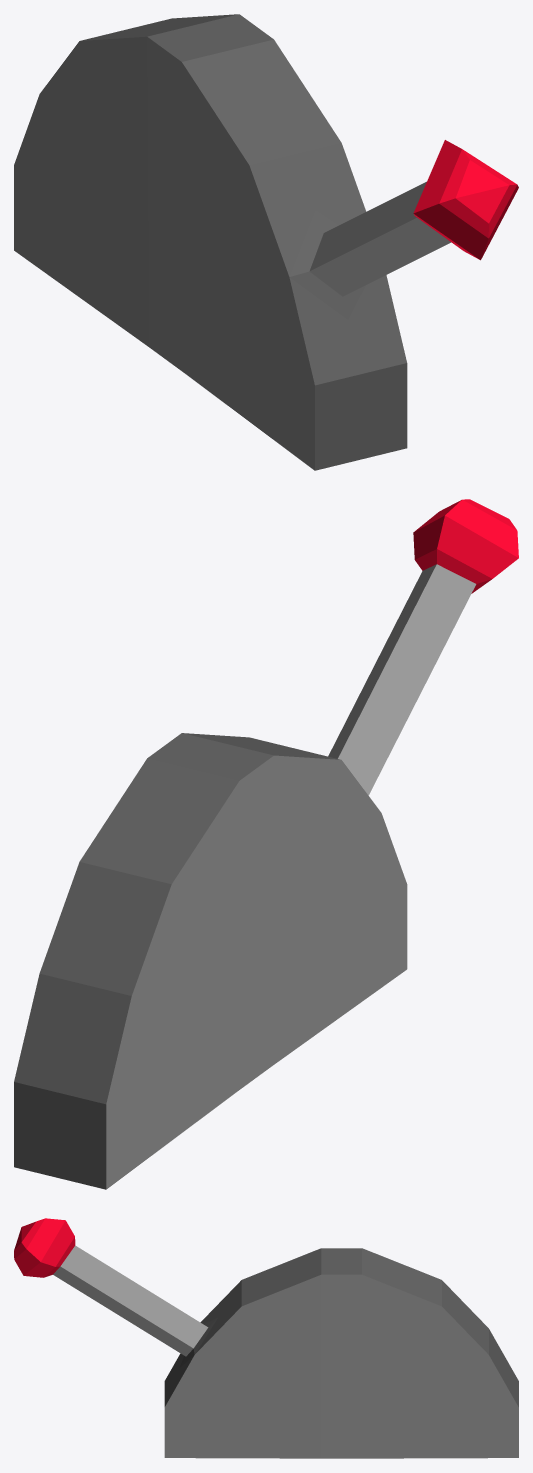
File: switchFBX.fbx
3 views of the same model, one above another, from view 1: azimuth 30°, elevation 25°; view 2: azimuth 150°, elevation 25°; view 3: azimuth 270°, elevation 25° (orthographic). The views are drawn at different scales.
Visible parts, largest first — view 1: Cube; view 2: Cube; view 3: Cube.
Part boxes in pixels (left/top/right/bottom): Cube: left=14, top=14, right=518, bottom=470; Cube: left=14, top=499, right=518, bottom=1189; Cube: left=14, top=1218, right=518, bottom=1458.
Size of the model in its own units: 62.85 by 219 by 442.
